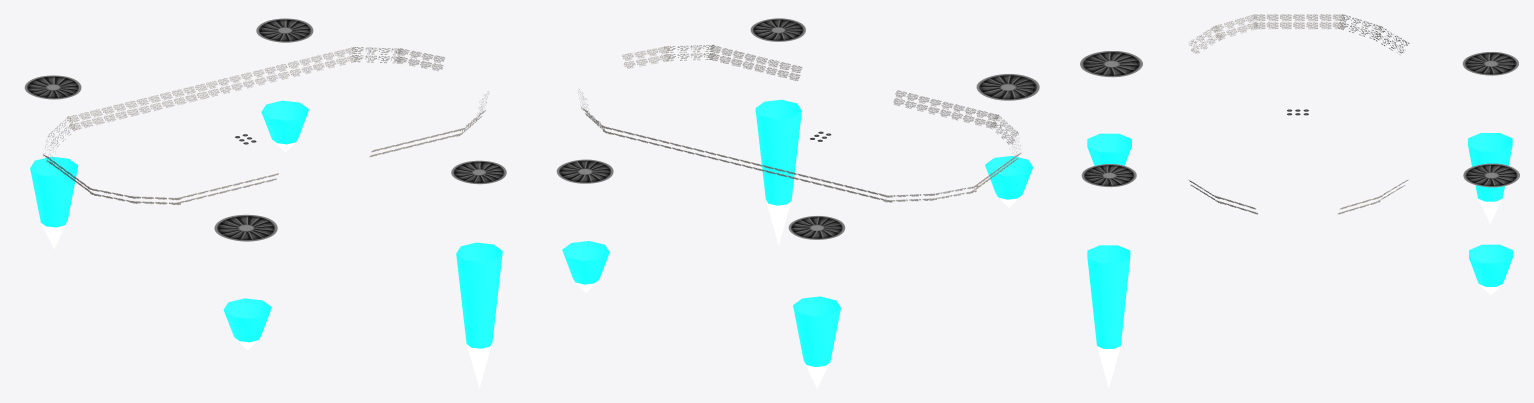
The model's file is snake08vpeiea.animation.glb.
The picture shows the model from 3 angles, left to right: view 1: azimuth 30°, elevation 25°; view 2: azimuth 150°, elevation 25°; view 3: azimuth 270°, elevation 25°; orthographic projection.
Visible parts, largest first — view 1: FLAME_2, VIEWERS_B, VIEWERS_A, FLAME_4, FLAME_1, FLAME_3, Fan.001, Fan.006, Fan.005, Fan.004; view 2: FLAME_2, VIEWERS_B, VIEWERS_A, FLAME_4, FLAME_1, FLAME_3, Fan.001, Fan.006, Fan.005, Fan.004; view 3: FLAME_2, FLAME_4, VIEWERS_A, VIEWERS_B, FLAME_3, Fan.001, FLAME_1, Fan.006, Fan.005, Fan.004.
Boxes of the visible parts, x1,y1,x2,y2 form: FLAME_2: (456,242,502,388); VIEWERS_B: (43,47,489,204); VIEWERS_A: (43,47,487,204); FLAME_4: (30,156,78,248); FLAME_1: (223,298,271,350); FLAME_3: (261,100,308,152); Fan.001: (214,214,277,241); Fan.006: (256,18,313,42); Fan.005: (24,75,81,99); Fan.004: (451,160,506,184); FLAME_2: (755,99,801,244); VIEWERS_B: (578,45,1021,202); VIEWERS_A: (579,45,1020,202); FLAME_4: (793,296,840,388); FLAME_1: (985,156,1032,207); FLAME_3: (562,241,609,292); Fan.001: (976,74,1039,100); Fan.006: (556,159,613,183); Fan.005: (788,215,845,239); Fan.004: (750,18,805,41); FLAME_2: (1087,245,1130,388); FLAME_4: (1468,133,1512,223); VIEWERS_A: (1189,14,1409,214); VIEWERS_B: (1189,14,1408,214); FLAME_3: (1469,244,1512,295); Fan.001: (1080,51,1142,77); FLAME_1: (1087,133,1131,165); Fan.006: (1463,163,1519,187); Fan.005: (1462,52,1518,75); Fan.004: (1081,164,1136,187).
Size of the model in its own units: 940 by 503 by 902.
6 materials, 4 textured.
